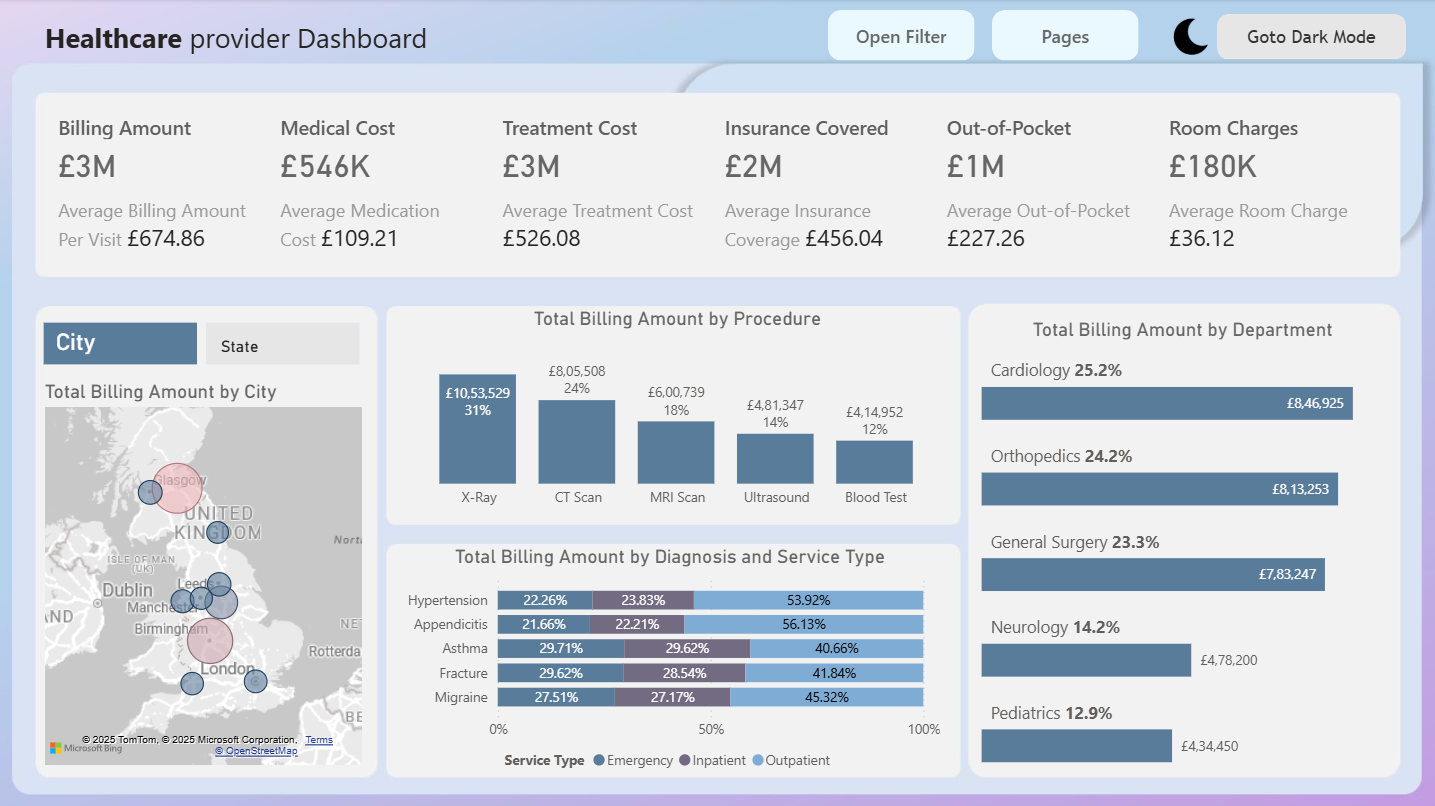

What the dashboard file says about the page in this screenshot:
{"tool":"powerbi","page":{"name":"Financial Analysis","canvas":[1280,720],"ordinal":1},"visuals":[{"type":"cardVisual","fields":{"Data":["DAX calculation.Total Billing Amount","DAX calculation.Total Medication cost","DAX calculation.Total Treatment Cost","DAX calculation.Total Insurance Covered","DAX calculation.Out-of-Pocket","DAX calculation.Total Room Charges"]},"box":[37.3,84,1197.3,156],"z":0},{"type":"actionButton","title":"open filter","box":[737.1,9.7,130.1,44.8],"z":1000,"group":"g1"},{"type":"actionButton","title":"open option","box":[881.9,9.7,130.1,44.8],"z":1000,"group":"g2"},{"type":"hundredPercentStackedBarChart","fields":{"Y":["DAX calculation.Total Billing Amount"],"Category":["diagnoses.Diagnosis"],"Series":["visits.Service Type"]},"box":[352,484,489.3,209.3],"z":1000},{"type":"clusteredBarChart","title":"Total Billing Amount by Department","fields":{"Category":["departments.Department"],"Y":["DAX calculation.Blank Measures","DAX calculation.Total Billing Amount"]},"box":[868,282.7,366.7,401.3],"z":2000},{"type":"map","fields":{"Category":["cities.City"],"Size":["DAX calculation.Total Billing Amount"]},"box":[37.4,337.8,290.8,346.2],"z":3000},{"type":"advancedSlicerVisual","fields":{"Values":["Patients Location Switch.Patients Location Switch"]},"box":[36.2,282.3,290.8,47.1],"z":4000},{"type":"clusteredColumnChart","fields":{"Y":["DAX calculation.Total Billing Amount"],"Category":["procedures.Procedure"]},"box":[352,273.3,502.7,186.7],"z":5000},{"type":"textbox","box":[37.5,12.5,425,45.8],"z":6000},{"type":"image","box":[1036.3,12.1,44.6,42.2],"z":7000},{"type":"actionButton","box":[1081.6,13,167.7,40.5],"z":8000},{"type":"group","id":"g1","title":"slicer control","box":[737.1,9.7,130.3,44.6],"z":10000},{"type":"group","id":"g2","title":"page contorller","box":[881.9,9.7,129.1,44.6],"z":11000}]}

Visuals, with their boxes in screenshot pixels (x1, y1, x2, y2), scaled from the page's 1280x720 canvas onto the 1435x806 screenshot:
cardVisual - DAX calculation.Total Billing Amount x DAX calculation.Total Medication cost: crop(42, 94, 1384, 269)
"open filter" actionButton: crop(826, 11, 972, 61)
"open option" actionButton: crop(989, 11, 1135, 61)
hundredPercentStackedBarChart - DAX calculation.Total Billing Amount x diagnoses.Diagnosis: crop(395, 542, 943, 776)
"Total Billing Amount by Department" clusteredBarChart: crop(973, 316, 1384, 766)
map - cities.City x DAX calculation.Total Billing Amount: crop(42, 378, 368, 766)
advancedSlicerVisual - Patients Location Switch.Patients Location Switch: crop(41, 316, 367, 369)
clusteredColumnChart - DAX calculation.Total Billing Amount x procedures.Procedure: crop(395, 306, 958, 515)
textbox: crop(42, 14, 519, 65)
image: crop(1162, 14, 1212, 61)
actionButton: crop(1213, 15, 1401, 60)
"slicer control" group: crop(826, 11, 972, 61)
"page contorller" group: crop(989, 11, 1133, 61)
